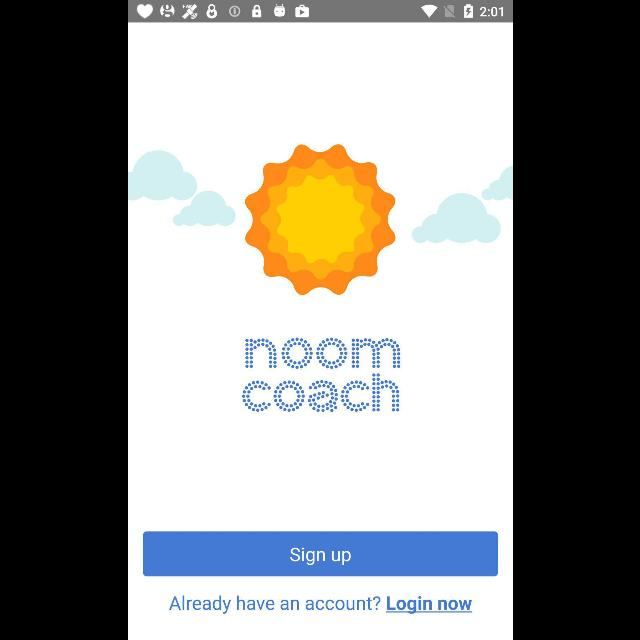image: (128, 144, 512, 296), (241, 336, 401, 414)
text: (168, 596, 472, 614)
textbutton: (142, 532, 498, 576)
uppertaskbar: (128, 1, 512, 23)
